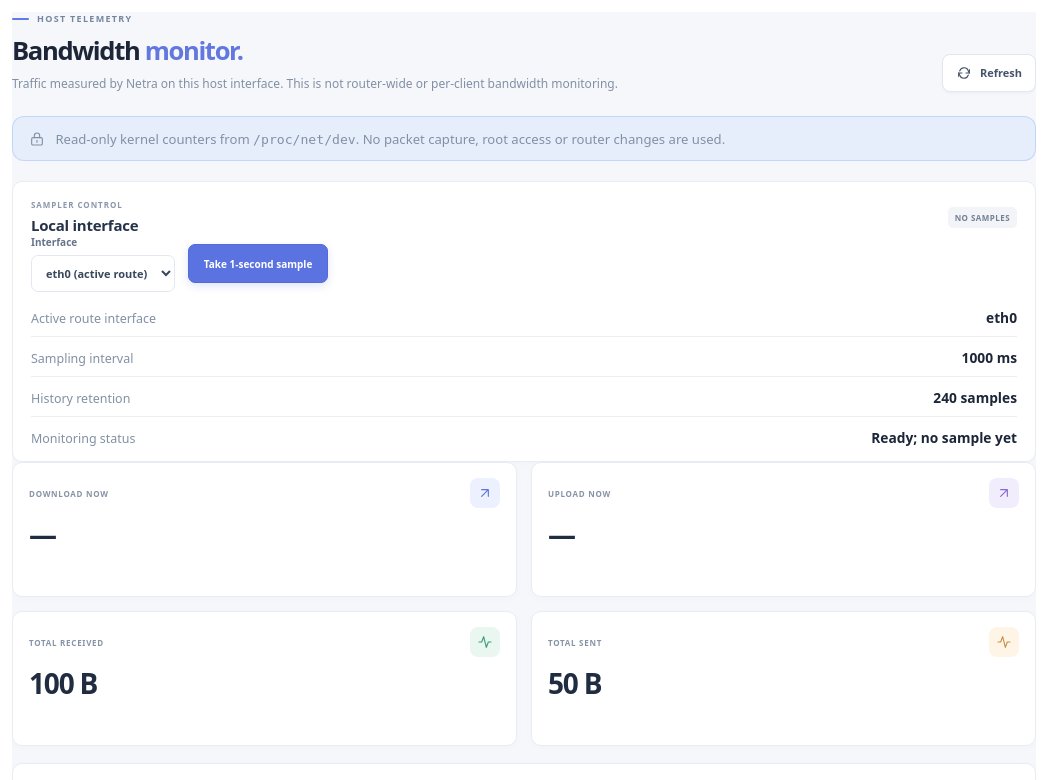
Test: Dashboard and host telemetry › takes an explicit local interface sample
Click the button "Take 1-second sample".
click(258, 264)  # box [188, 244, 328, 283]
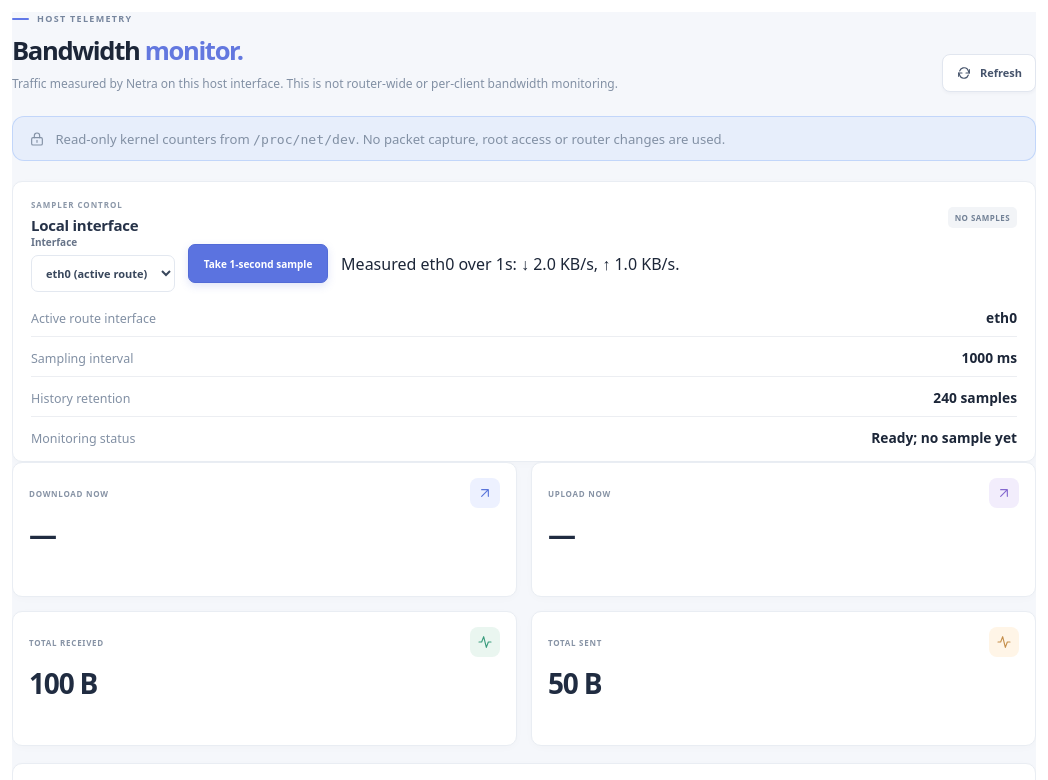
Check: the text "Measured eth0 over 1s: ↓ 2.0 KB/s, ↑ 1.0 KB/s." is shown, box [341, 253, 679, 275]
